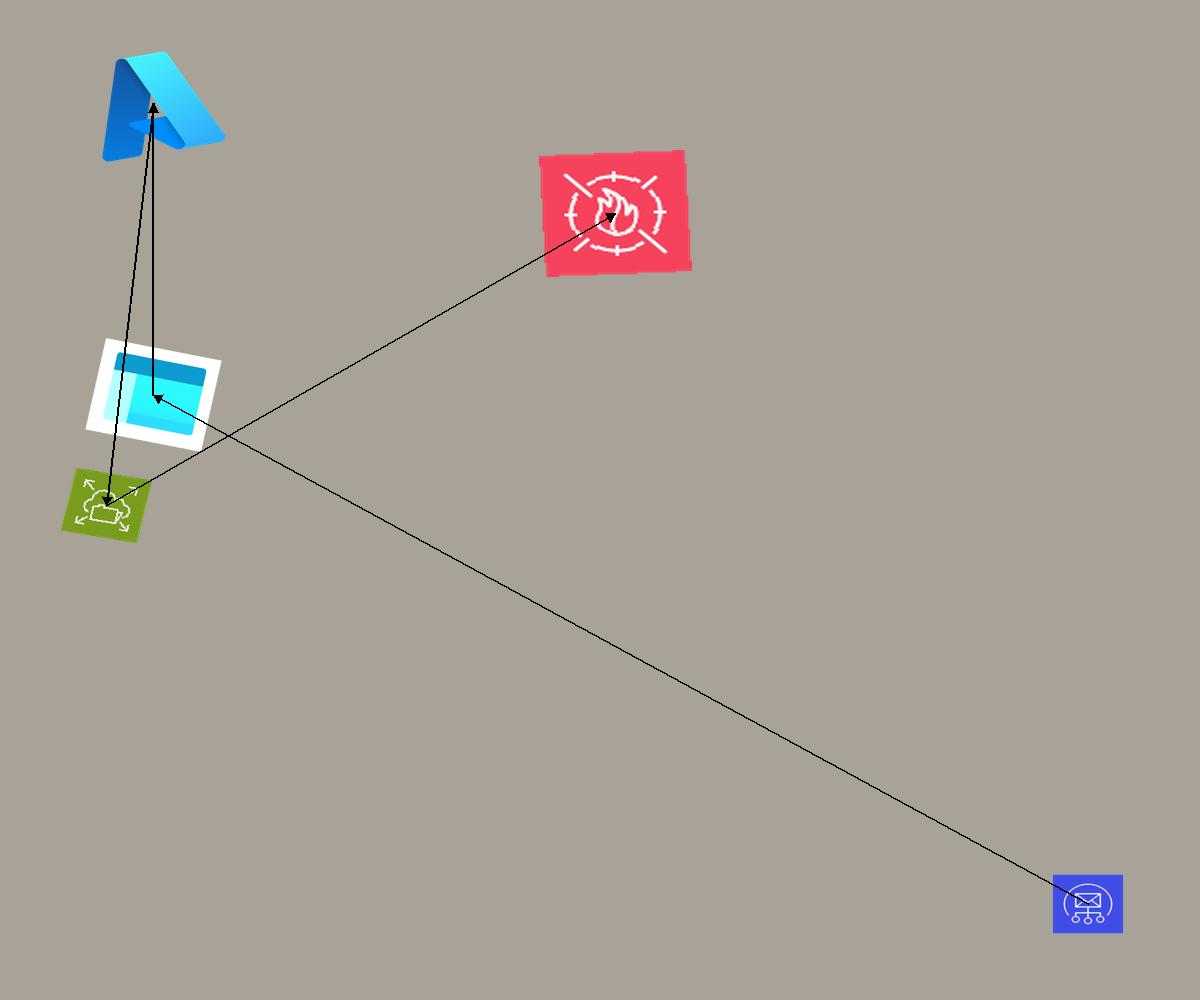AWS-EFS: (60, 467, 153, 544)
AWS-Simple-Email-Service: (1052, 874, 1124, 934)
AWS-WAF: (539, 150, 692, 277)
Azure_management-portal: (85, 338, 222, 452)
Azure_services: (72, 36, 234, 171)
